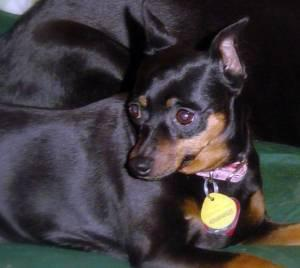dog-miniature_pinscher: (125, 0, 249, 181)
